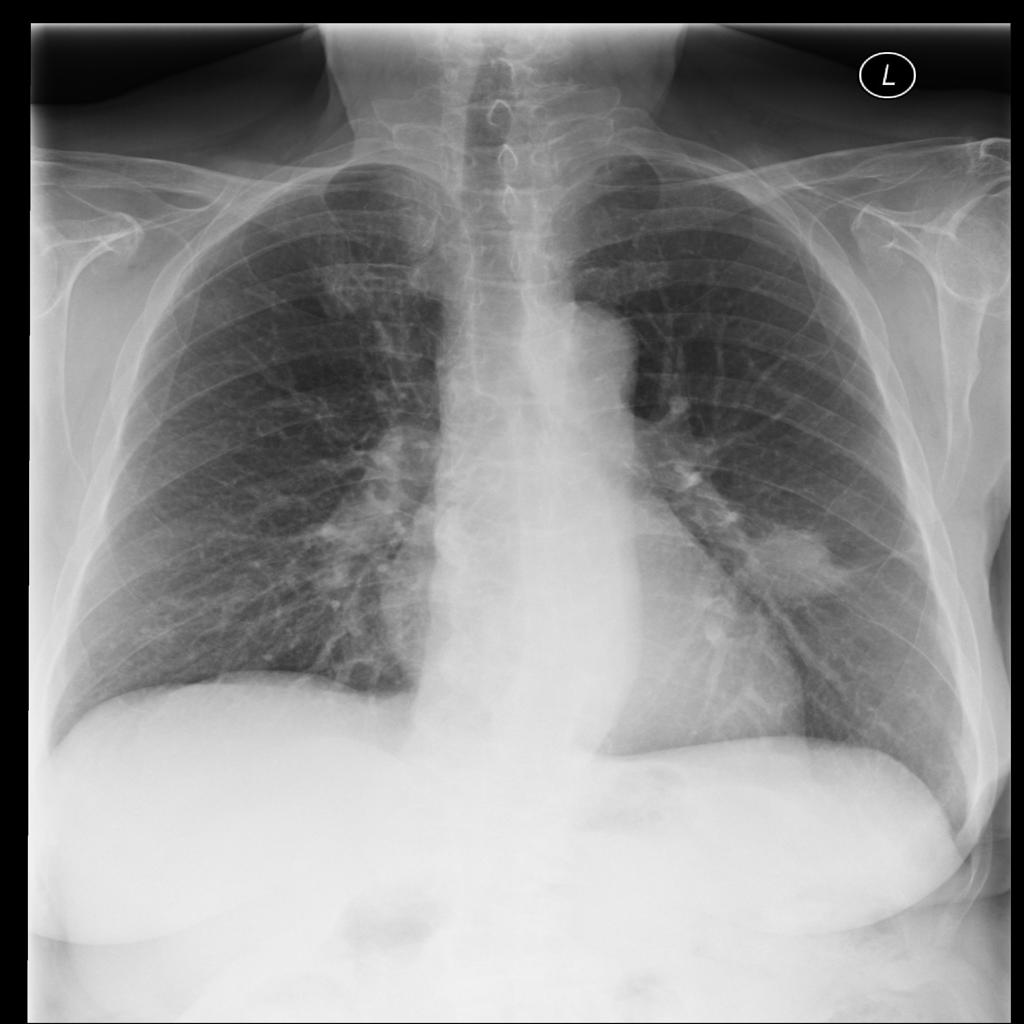nodule: (724, 504, 859, 622)
